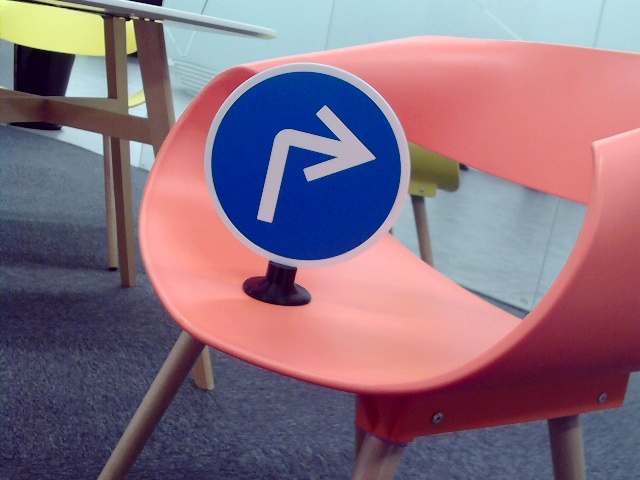turn_right: (253, 98, 370, 231)
